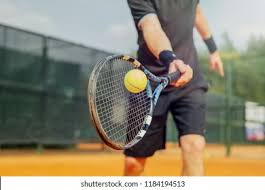tennis racket: (86, 53, 187, 152)
